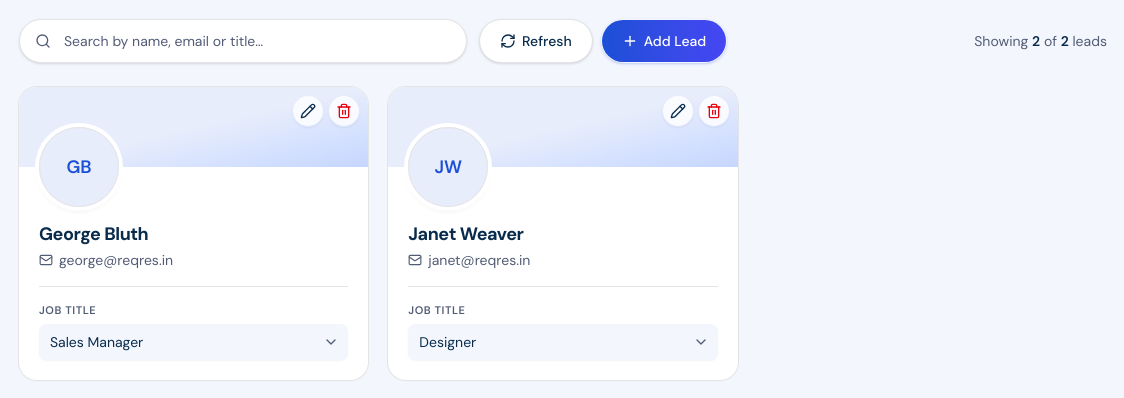
it: shows an empty state and clears the search
Expected: the heading "George Bluth" is shown, 39,222 -> 148,246
Type "nobody" into the field with placeholder "Search by name, email or title…".
click(243, 41); type("nobody")  # box 19,19 -> 467,63
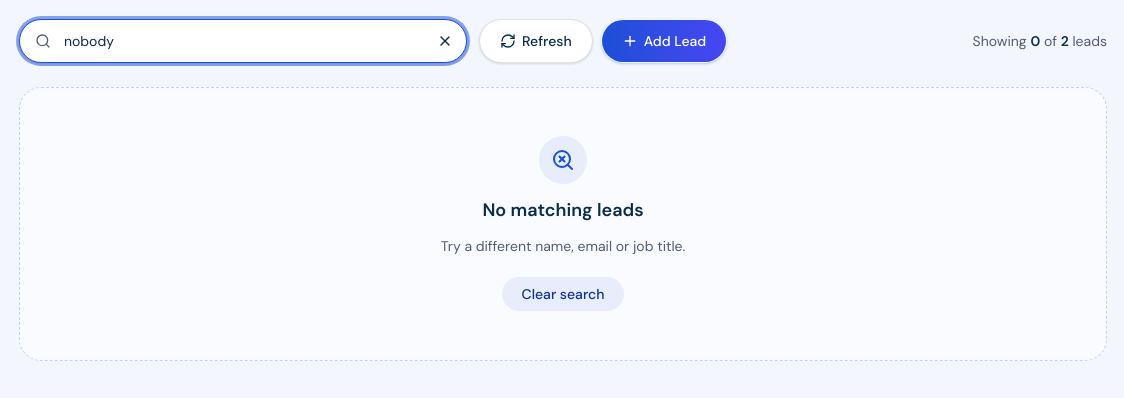
Expected: the text "No matching leads" is shown, 482,196 -> 644,224
Click the button "Clear search".
click(563, 294)  # box 501,276 -> 626,312
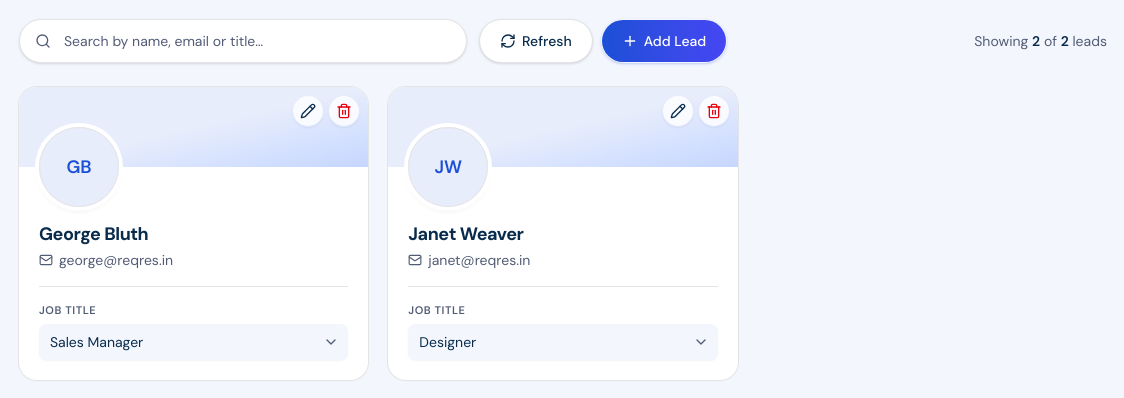
Expected: the heading "George Bluth" is shown, 39,222 -> 148,246
Expected: the field with placeholder "Search by name, email or title…" is empty, 19,19 -> 467,63
